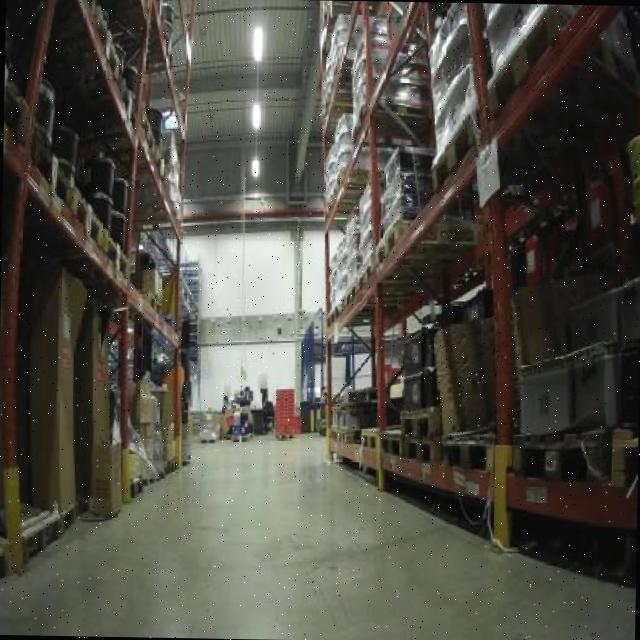pallet: (61, 173, 114, 261), (365, 204, 414, 274), (93, 221, 134, 285), (394, 408, 439, 440), (403, 434, 441, 464), (378, 429, 404, 457), (330, 427, 359, 442)
